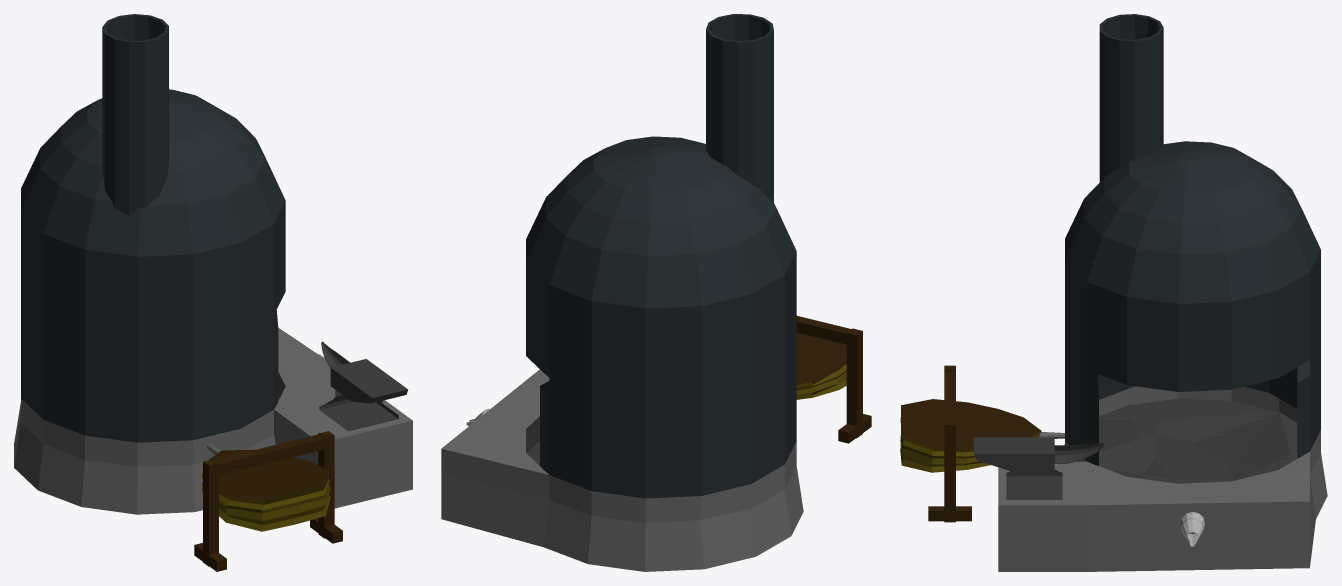
Rendered from smithy.fbx.
3 views of the same model, side by side, from view 1: azimuth 30°, elevation 25°; view 2: azimuth 150°, elevation 25°; view 3: azimuth 270°, elevation 25° (orthographic). The views are drawn at different scales.
Visible parts, largest first — view 1: Cylinder.001, Cylinder, Cylinder.003, Cube, Cube.002, Cube.001, Cube.003; view 2: Cylinder.001, Cylinder, Cylinder.003, Cube.001, Cube.002; view 3: Cylinder.001, Cylinder, Cylinder.003, Cube, Cube.003, Cube.004, Cube.002.
Boxes of the visible parts, box(x1,y1,x2,y2) form: Cylinder.001: box(14, 89, 412, 514); Cylinder: box(102, 14, 168, 215); Cylinder.003: box(202, 449, 330, 531); Cube: box(319, 341, 408, 431); Cube.002: box(214, 434, 324, 474); Cube.001: box(203, 459, 218, 566); Cube.003: box(318, 431, 334, 538); Cylinder.001: box(441, 136, 803, 571); Cylinder: box(706, 14, 773, 202); Cylinder.003: box(796, 332, 846, 399); Cube.001: box(846, 328, 862, 438); Cube.002: box(796, 316, 850, 344); Cylinder.001: box(998, 141, 1327, 571); Cylinder: box(1099, 14, 1163, 181); Cylinder.003: box(900, 399, 1041, 472); Cube: box(973, 437, 1104, 499); Cube.003: box(944, 420, 955, 522); Cube.004: box(928, 506, 971, 521); Cube.002: box(944, 371, 955, 419).
Size of the model in its own units: 266 by 381 by 330.
